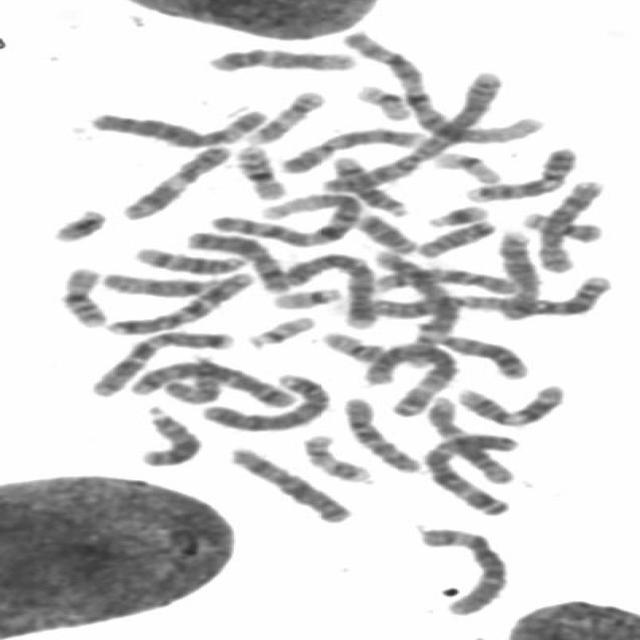A1: (333, 23, 549, 146), (201, 185, 366, 248)
A2: (317, 62, 509, 192), (352, 267, 618, 321)
A3: (416, 425, 526, 517), (355, 336, 462, 418)
B4: (193, 367, 336, 433), (272, 246, 382, 330)
B5: (363, 243, 463, 369), (116, 354, 301, 409)
C10: (334, 391, 425, 474), (364, 261, 524, 296)
C11: (112, 138, 236, 221), (447, 376, 570, 428)
C12: (417, 391, 519, 487), (197, 41, 363, 74)
C6: (408, 520, 514, 617), (81, 102, 274, 149)
C7: (78, 322, 240, 398), (99, 266, 258, 336)
C8: (528, 173, 612, 274), (489, 223, 544, 322)
C9: (269, 120, 427, 176), (457, 140, 583, 202)
D13: (424, 327, 534, 380), (130, 400, 206, 468)
D14: (322, 149, 412, 217), (124, 240, 252, 274)
D15: (92, 264, 238, 298), (156, 351, 228, 405)
E16: (51, 260, 113, 328), (226, 137, 291, 200)
E17: (237, 84, 330, 145), (293, 428, 377, 485)
E18: (409, 214, 500, 259), (347, 208, 420, 255)
F19: (424, 144, 506, 185), (347, 77, 417, 121)
F20: (514, 204, 610, 244), (312, 324, 390, 364)
G21: (42, 202, 112, 244), (417, 197, 494, 228)
G22: (237, 308, 320, 350), (264, 281, 346, 311)
X: (220, 440, 356, 524), (178, 225, 293, 294)
